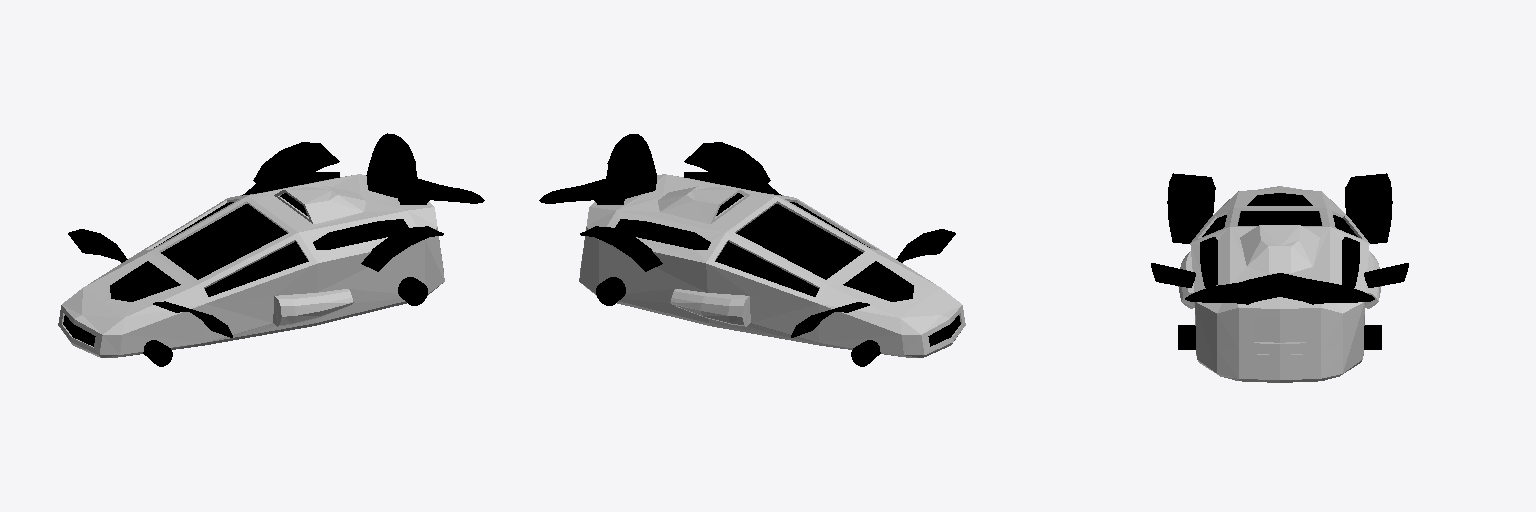
Rendered from Car5_Body.obj.
3 renders of one model, left to right at view 1: azimuth 30°, elevation 25°; view 2: azimuth 150°, elevation 25°; view 3: azimuth 270°, elevation 25°, orthographic.
Parts seen in each view (by area): view 1: body.001, Plane, Plane.001, Plane.002, axis.001, f_axis.001; view 2: body.001, Plane, Plane.001, Plane.002, axis.001, f_axis.001; view 3: body.001, Plane.002, Plane, Plane.001, axis.001.
Boxes of the visible parts, <box> form: body.001: <box>58,172,444,357</box>; Plane: <box>366,133,484,204</box>; Plane.001: <box>253,142,443,271</box>; Plane.002: <box>68,229,232,337</box>; axis.001: <box>398,277,427,305</box>; f_axis.001: <box>143,340,172,366</box>; body.001: <box>579,172,965,357</box>; Plane: <box>539,134,656,204</box>; Plane.001: <box>580,142,770,271</box>; Plane.002: <box>791,229,955,337</box>; axis.001: <box>596,277,625,305</box>; f_axis.001: <box>851,340,880,366</box>; body.001: <box>1178,186,1381,382</box>; Plane.002: <box>1167,173,1392,243</box>; Plane: <box>1185,273,1374,304</box>; Plane.001: <box>1151,263,1408,287</box>; axis.001: <box>1178,325,1381,349</box>.
Size of the model in its own units: 5.93 by 1.52 by 3.59.